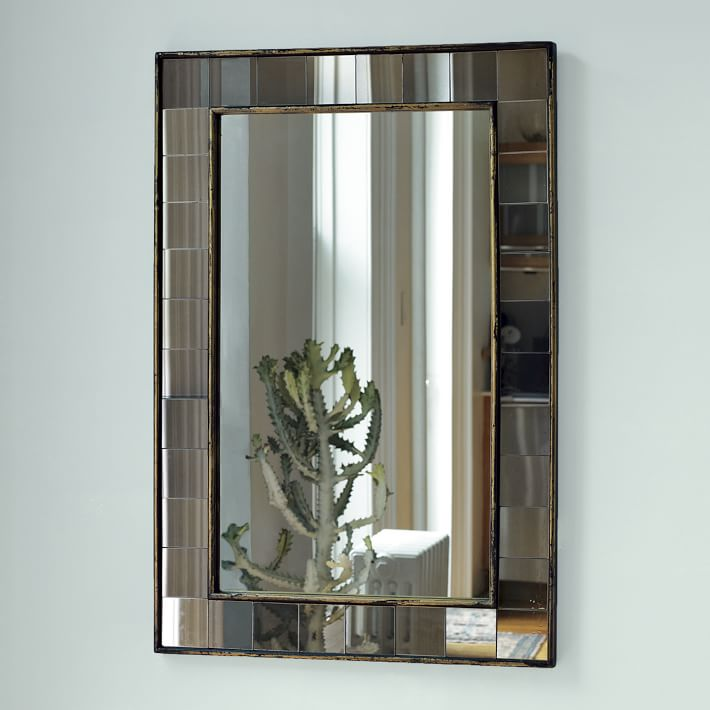Nonrec_Glass: (104, 33, 613, 678)
